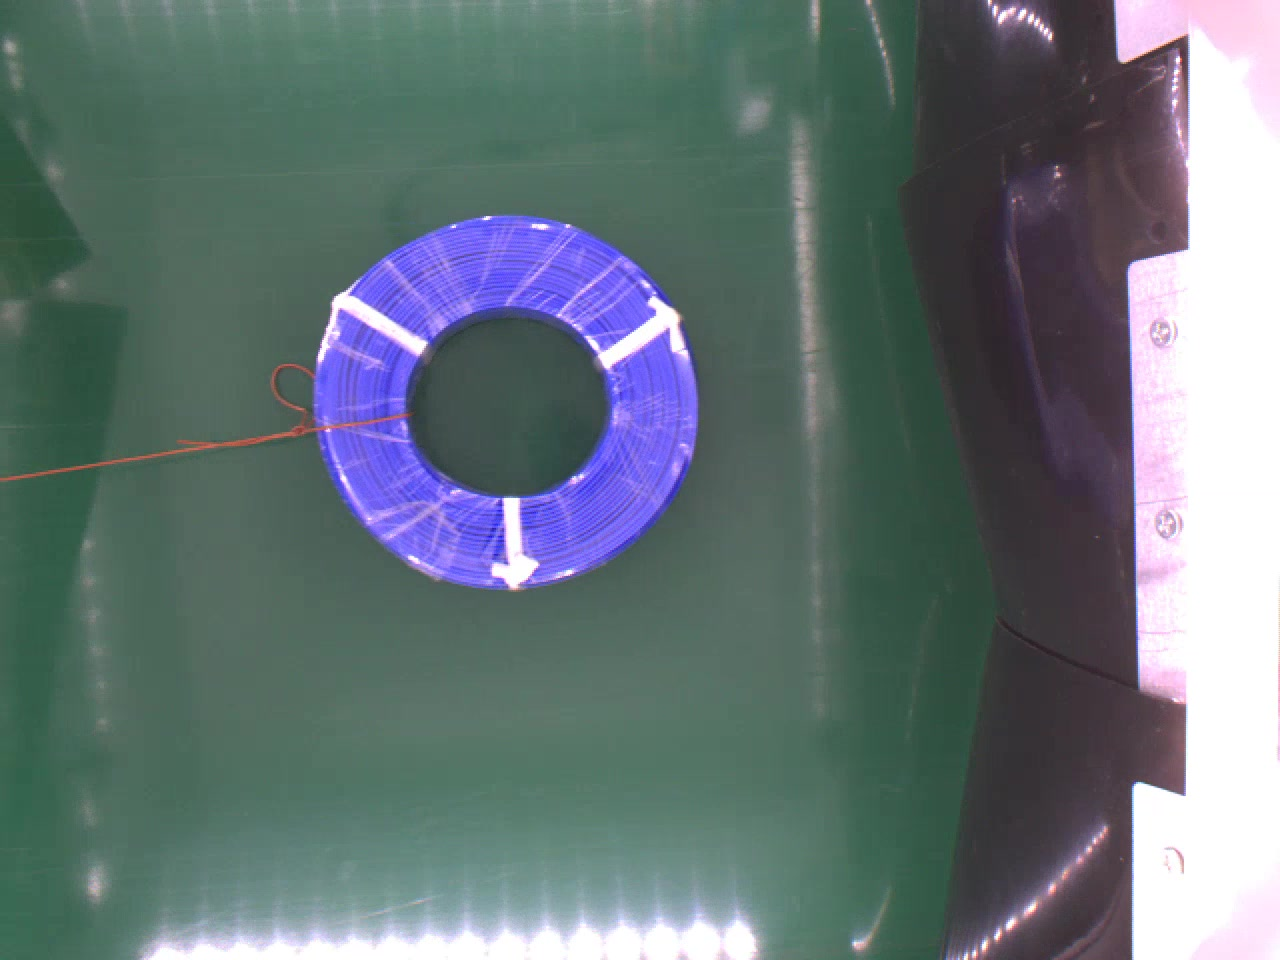blue: (307, 212, 699, 589)
